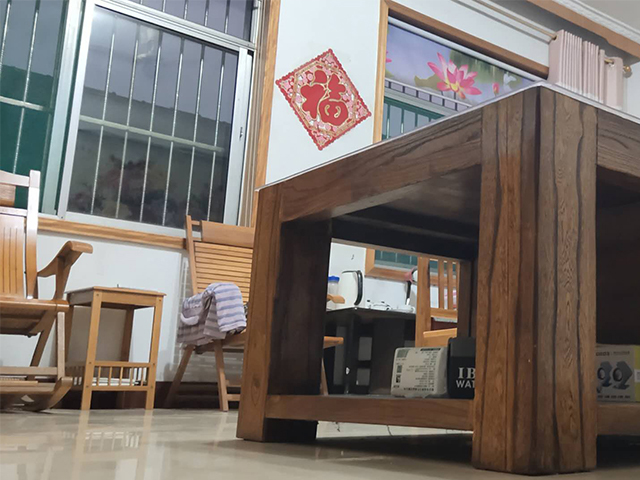stool: (1, 167, 94, 414), (162, 211, 254, 414)
table: (234, 81, 640, 477), (65, 285, 165, 413), (324, 305, 417, 397)
